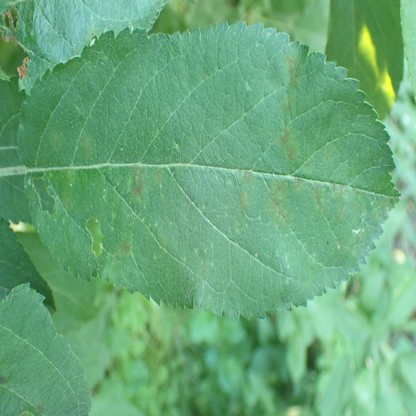scab: (266, 178, 292, 228), (274, 127, 298, 163), (131, 165, 147, 201), (113, 232, 132, 262), (284, 56, 301, 89), (332, 183, 348, 217), (309, 184, 325, 208), (48, 132, 63, 154), (280, 95, 295, 117), (375, 198, 390, 219), (151, 166, 164, 188), (77, 134, 90, 156), (347, 239, 360, 259), (155, 232, 170, 249), (238, 192, 253, 208), (303, 156, 313, 177), (0, 369, 13, 385), (236, 169, 253, 181), (293, 176, 304, 194), (66, 169, 76, 186), (34, 402, 46, 416), (60, 199, 72, 211), (323, 146, 332, 161), (335, 236, 343, 251), (200, 267, 207, 276)
